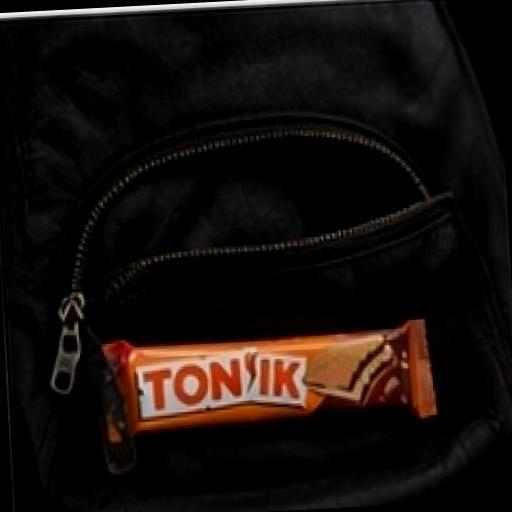tonik: (40, 272, 488, 481)
